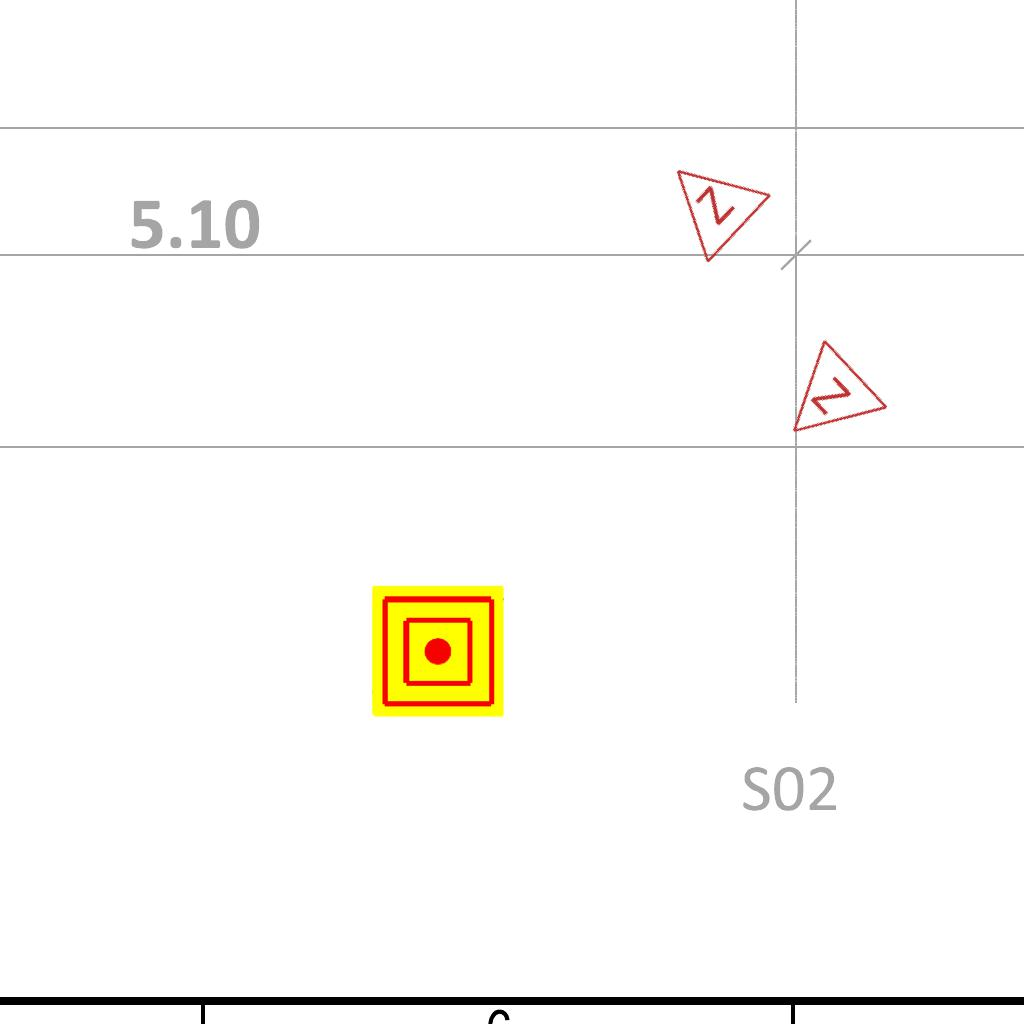NAM-Nichtautomatischer_Melder: (372, 585, 504, 717)
Zimmersignalleuchte: (756, 333, 896, 473), (638, 131, 778, 271)
